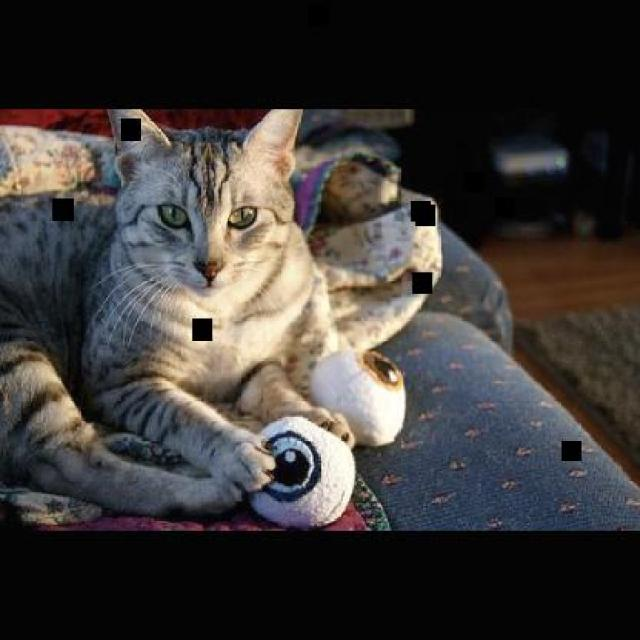unauthorized: (0, 106, 357, 525)
